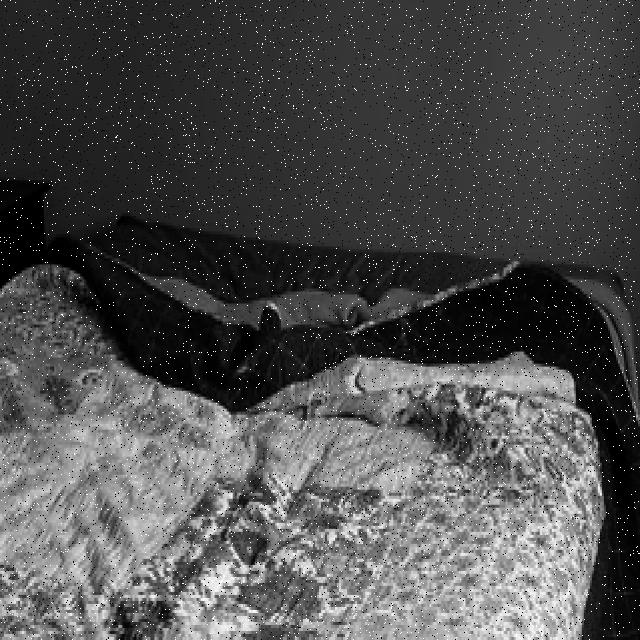bed: (2, 219, 640, 640)
